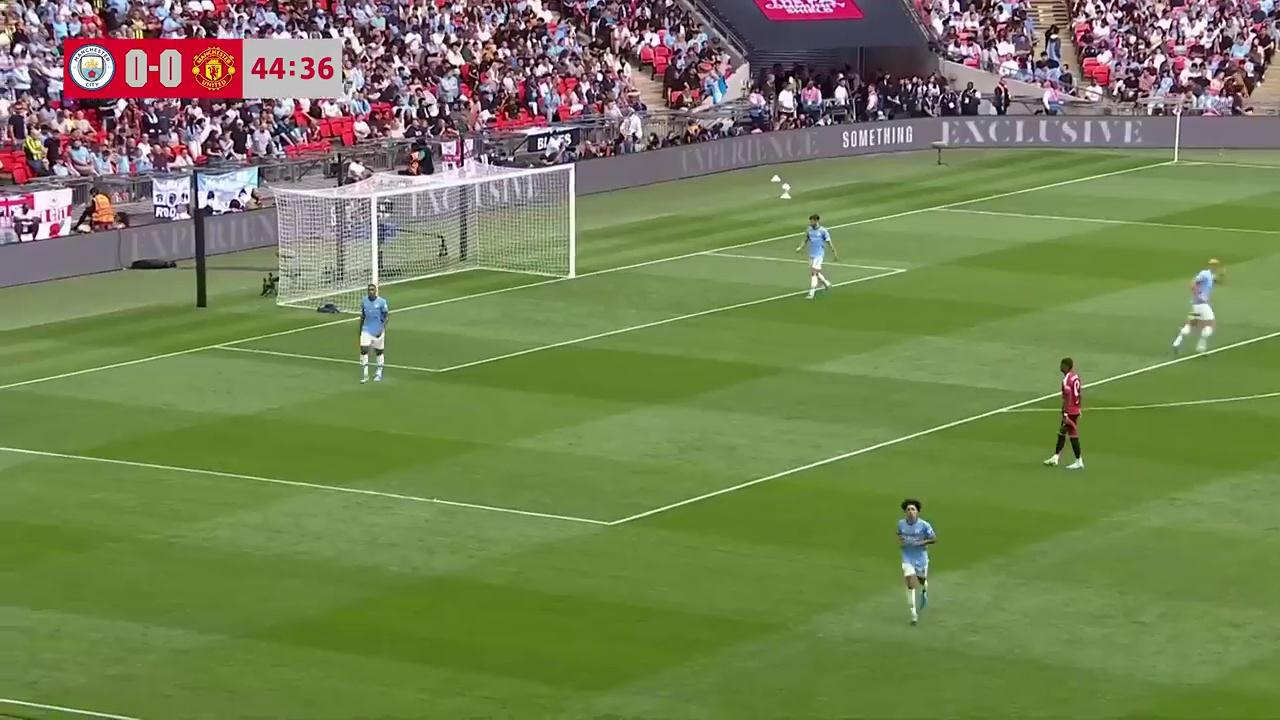player: (896, 498, 937, 625), (1172, 259, 1227, 353), (1045, 357, 1086, 471), (359, 280, 387, 380), (801, 216, 831, 297)
